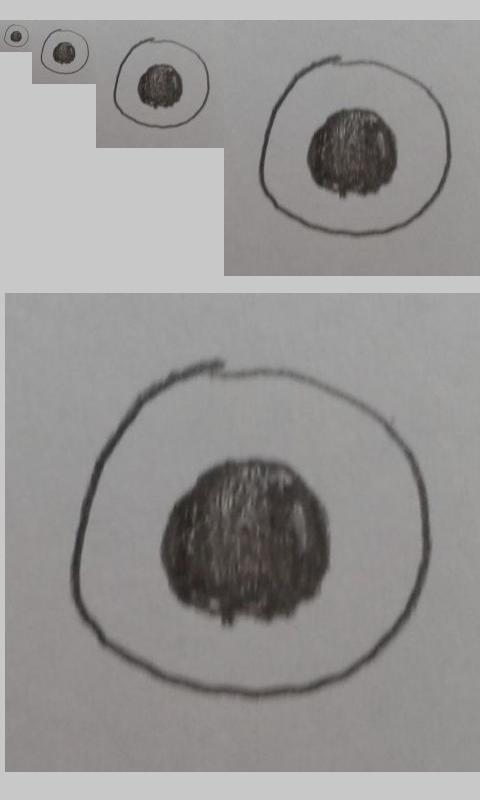radio_button: (69, 358, 432, 701), (258, 55, 452, 238), (112, 37, 210, 129), (40, 29, 90, 75), (3, 23, 30, 48)
